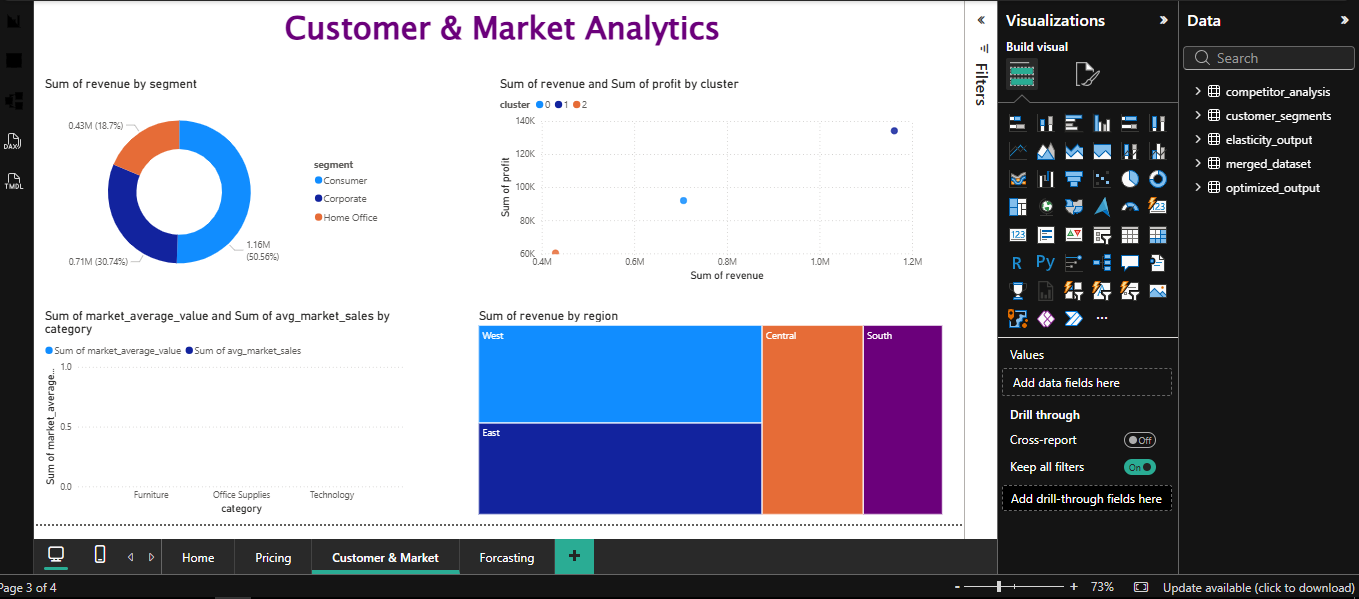

The page's visual inventory and layout, read from the dashboard file:
{"tool":"powerbi","page":{"name":"Customer & Market","canvas":[1280,720],"ordinal":2},"visuals":[{"type":"textbox","box":[9.6,0,1270.4,75.7],"z":0},{"type":"donutChart","fields":{"Category":["elasticity_output.segment"],"Y":["Sum(elasticity_output.revenue)"]},"box":[9.6,103.2,477.6,300],"z":1000},{"type":"scatterChart","fields":{"X":["Sum(elasticity_output.revenue)"],"Y":["Sum(elasticity_output.profit)"],"Series":["customer_segments.cluster"]},"box":[635.9,103.2,591.8,287.7],"z":2000},{"type":"clusteredColumnChart","fields":{"Category":["competitor_analysis.category"],"Y":["Sum(merged_dataset.market_average_value)","Sum(merged_dataset.avg_market_sales)"]},"box":[9.6,422.5,505.1,289],"z":3000},{"type":"treemap","fields":{"Values":["Sum(merged_dataset.revenue)"],"Group":["merged_dataset.region"]},"box":[607,422.5,648.3,289],"z":4000}]}

Visuals, with their boxes on the page's 1280x720 design canvas (x1, y1, x2, y2). These are canvas units, not pixel positions in the 1359x599 screenshot, which may show the page scaled, cropped or inside an application window:
textbox: <bbox>10, 0, 1280, 76</bbox>
donutChart - elasticity_output.segment x Sum(elasticity_output.revenue): <bbox>10, 103, 487, 403</bbox>
scatterChart - Sum(elasticity_output.revenue) x Sum(elasticity_output.profit): <bbox>636, 103, 1228, 391</bbox>
clusteredColumnChart - competitor_analysis.category x Sum(merged_dataset.market_average_value): <bbox>10, 422, 515, 712</bbox>
treemap - Sum(merged_dataset.revenue) x merged_dataset.region: <bbox>607, 422, 1255, 712</bbox>
